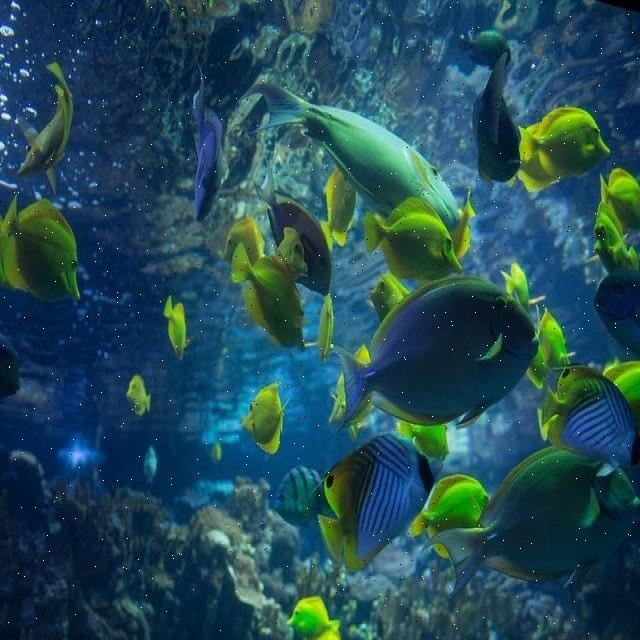fish: (417, 449, 638, 603), (331, 276, 540, 434), (240, 81, 461, 230), (319, 432, 444, 570), (257, 152, 335, 294), (539, 364, 639, 472), (0, 190, 83, 304), (231, 241, 308, 356), (366, 197, 461, 281), (16, 61, 74, 196), (186, 42, 229, 219), (523, 108, 611, 192), (472, 52, 523, 185), (412, 477, 489, 537), (270, 464, 331, 529), (595, 267, 639, 357), (238, 380, 289, 457), (592, 201, 639, 271), (321, 167, 356, 251), (283, 596, 340, 639), (162, 290, 195, 360), (600, 168, 639, 226), (364, 276, 408, 327), (219, 216, 266, 261), (397, 421, 450, 460), (457, 31, 510, 68), (541, 305, 571, 369), (311, 295, 334, 362), (499, 261, 529, 305), (281, 228, 309, 274), (125, 373, 152, 420)
